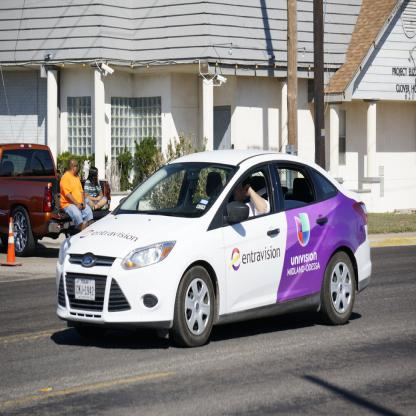Car: (56, 135, 372, 348)
Truck: (0, 143, 112, 256)
